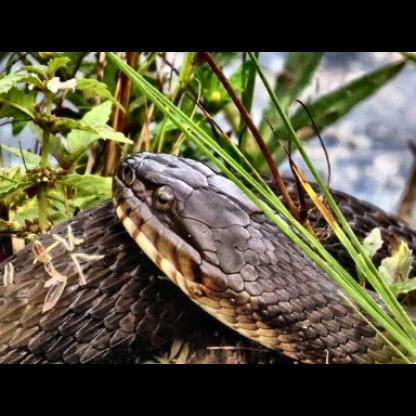Snake: (7, 131, 413, 363)
